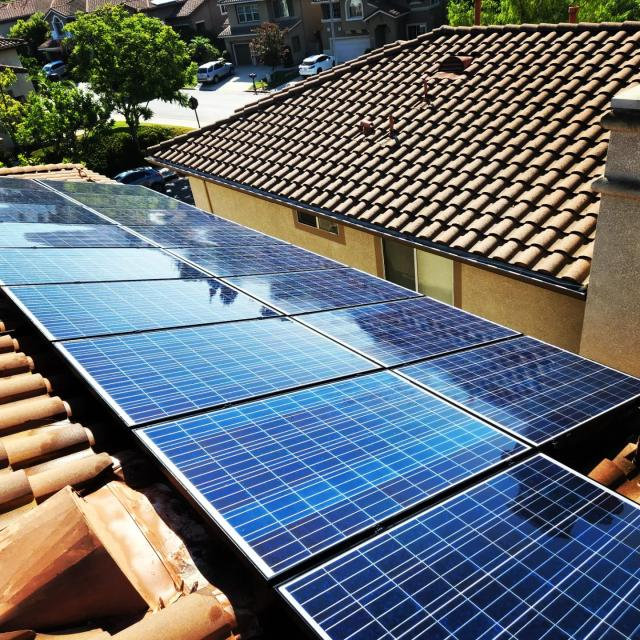clean-solar-panel: (0, 180, 640, 640)
